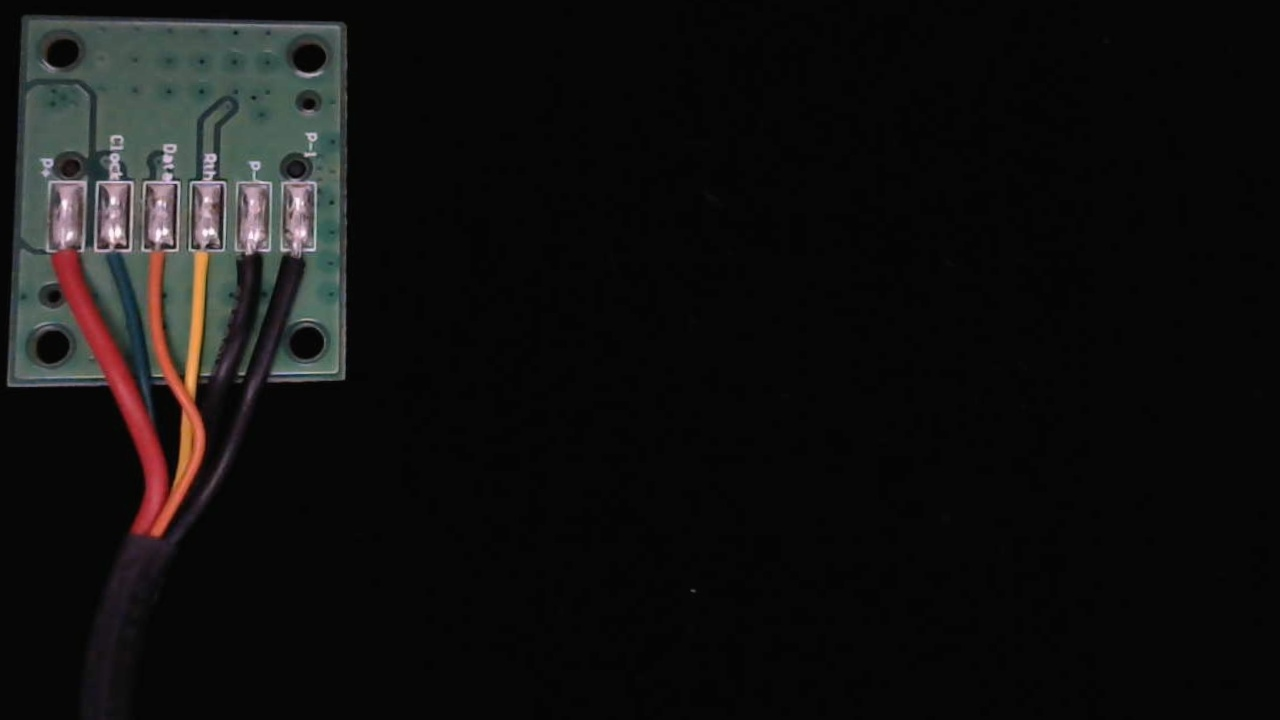Black: (229, 231, 270, 311)
Black1: (279, 231, 319, 304)
Green: (88, 229, 132, 306)
Orange: (139, 231, 180, 310)
Red: (41, 236, 85, 313)
Yellow: (183, 228, 226, 309)
